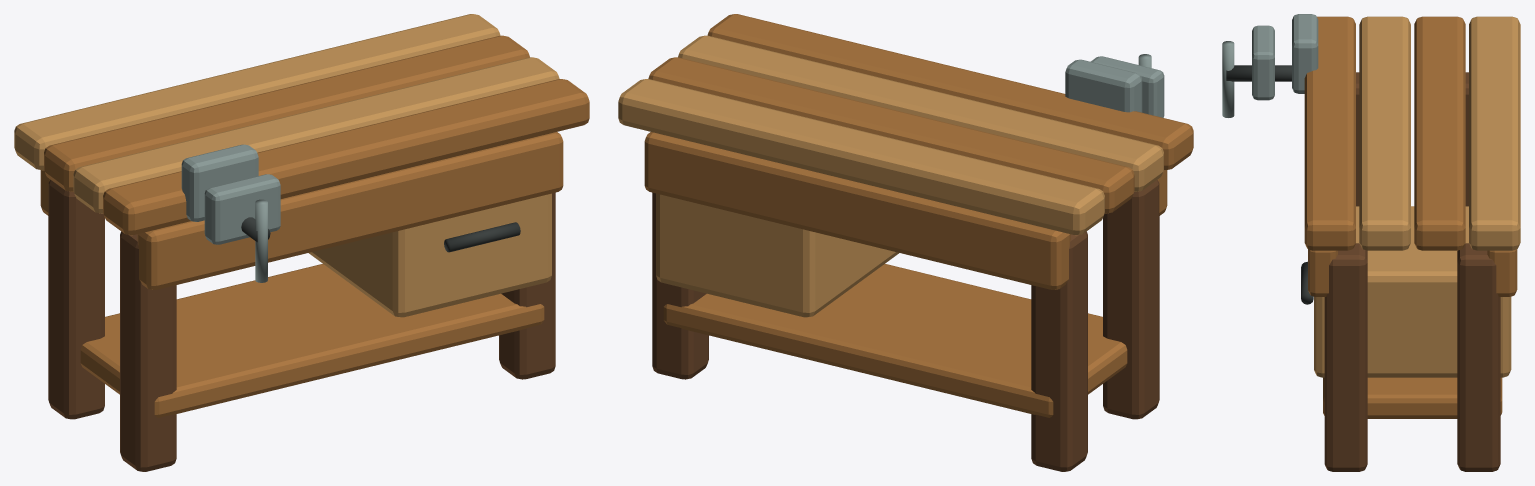
File: 19_workbench.glb
3 renders of one model, left to right at view 1: azimuth 30°, elevation 25°; view 2: azimuth 150°, elevation 25°; view 3: azimuth 270°, elevation 25°, orthographic. The views are drawn at different scales.
Visible parts, largest first — view 1: Workbench shelf.001, Table apron.006, Table top plank.012, Drawer.001, Table top plank.014, Table top plank.015, Table top plank.013, Table leg.014, Table leg.012, Table leg.013, Vice moving jaw.001, Vice fixed jaw.001 (+2 smaller); view 2: Workbench shelf.001, Table apron.007, Table top plank.015, Drawer.001, Table top plank.014, Table top plank.013, Table top plank.012, Table leg.012, Table leg.014, Table leg.015, Vice fixed jaw.001, Vice moving jaw.001; view 3: Drawer.001, Table top plank.015, Table top plank.013, Table top plank.014, Table top plank.012, Table leg.015, Table leg.013, Workbench shelf.001, Vice fixed jaw.001, Vice moving jaw.001, Table apron.007, Table apron.006 (+5 smaller).
Part boxes in pixels (box(x1,y1,x2,y2)): Workbench shelf.001: box(80, 264, 544, 417); Table apron.006: box(137, 132, 563, 289); Table top plank.012: box(103, 79, 589, 235); Drawer.001: box(309, 193, 551, 317); Table top plank.014: box(44, 35, 529, 191); Table top plank.015: box(14, 14, 500, 170); Table top plank.013: box(73, 57, 559, 213); Table leg.014: box(48, 180, 104, 419); Table leg.012: box(120, 231, 176, 471); Table leg.013: box(499, 192, 555, 379); Vice moving jaw.001: box(204, 174, 280, 244); Vice fixed jaw.001: box(181, 144, 258, 221); Workbench shelf.001: box(663, 264, 1127, 417); Table apron.007: box(644, 132, 1070, 289); Table top plank.015: box(618, 79, 1104, 235); Drawer.001: box(656, 193, 898, 317); Table top plank.014: box(648, 57, 1134, 213); Table top plank.013: box(678, 35, 1163, 191); Table top plank.012: box(707, 14, 1193, 170); Table leg.012: box(1103, 180, 1159, 419); Table leg.014: box(1031, 231, 1087, 471); Table leg.015: box(652, 192, 708, 379); Vice fixed jaw.001: box(1065, 59, 1142, 112); Vice moving jaw.001: box(1090, 56, 1164, 117); Drawer.001: box(1314, 206, 1511, 377); Table top plank.015: box(1469, 16, 1520, 250); Table top plank.013: box(1359, 16, 1410, 250); Table top plank.014: box(1414, 16, 1465, 250); Table top plank.012: box(1304, 16, 1355, 250); Table leg.015: box(1457, 243, 1500, 471); Table leg.013: box(1324, 243, 1367, 471); Workbench shelf.001: box(1323, 377, 1502, 418); Vice fixed jaw.001: box(1292, 14, 1318, 93); Vice moving jaw.001: box(1252, 25, 1274, 100); Table apron.007: box(1487, 249, 1517, 296); Table apron.006: box(1308, 249, 1337, 296).
Bounding box in the file's own units: 1.5 × 0.965 × 0.8974.
